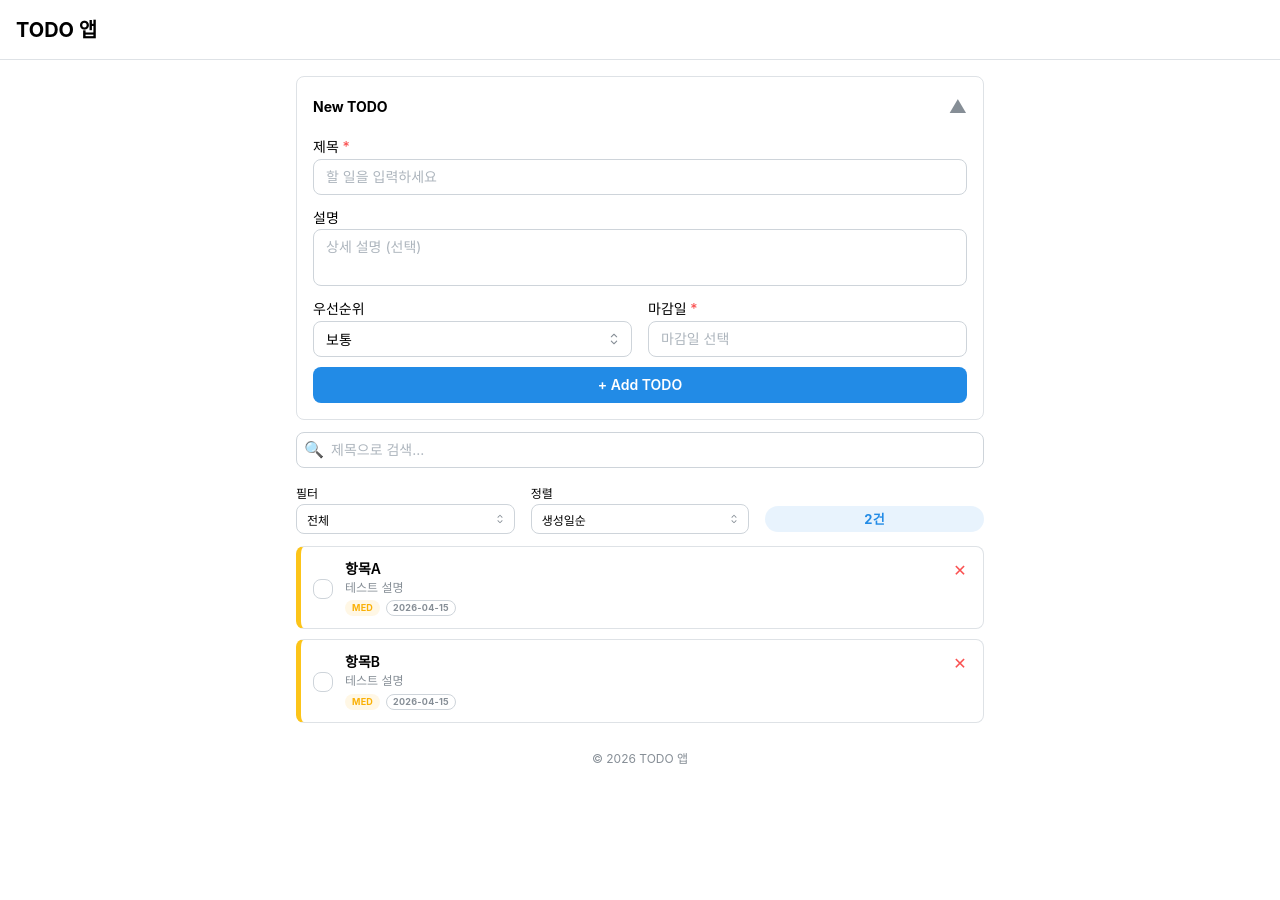
Test: App 통합 테스트 — 검색 › 검색어를 지우면 모든 항목이 다시 표시된다
The image size is (1280, 900).
Step 1. Type "항목A" into the field with placeholder "제목으로 검색..." → point(640, 450), box [296,432,984,468]
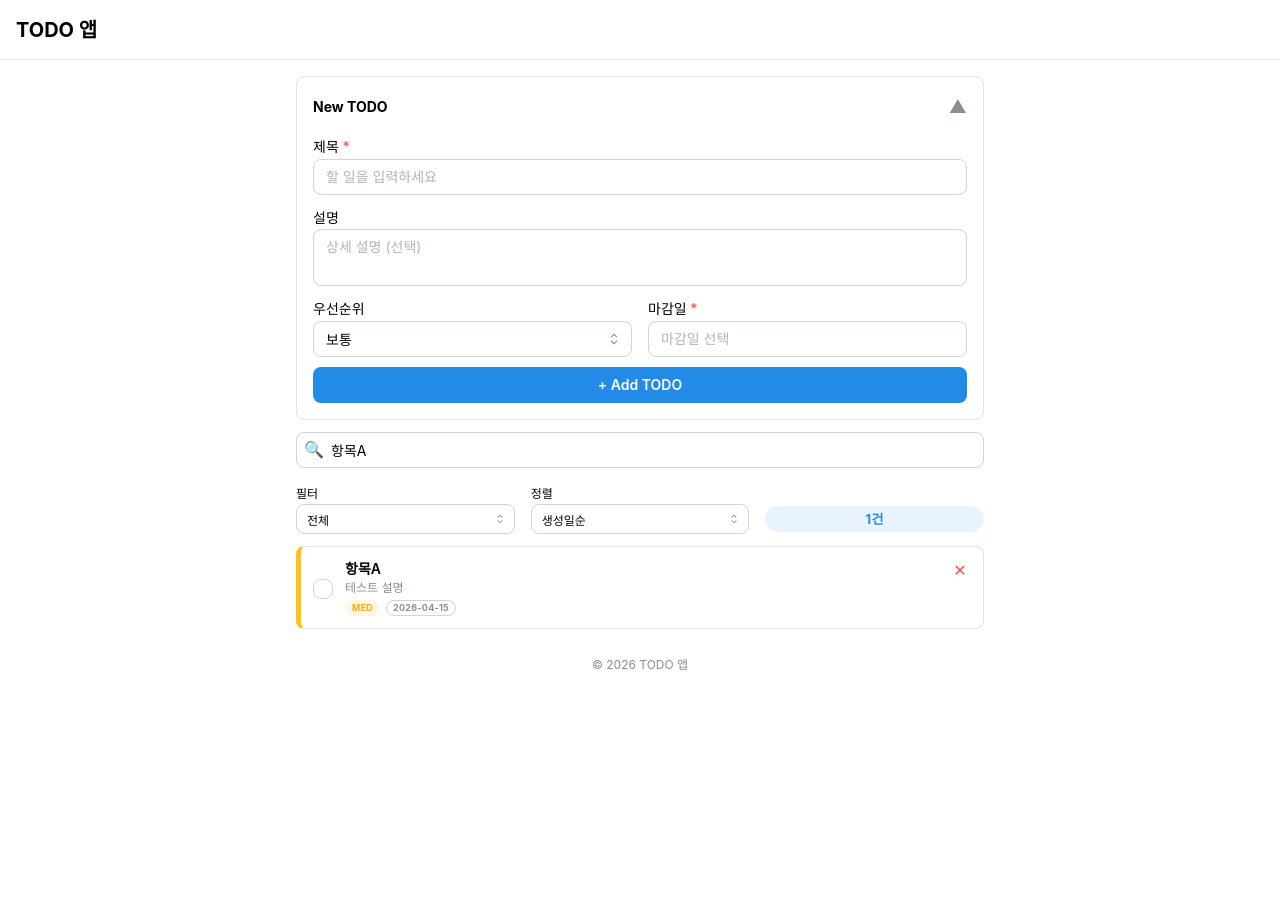
Now the text "항목B" is gone
Step 2. Clear the field with placeholder "제목으로 검색..." → point(640, 450), box [296,432,984,468]
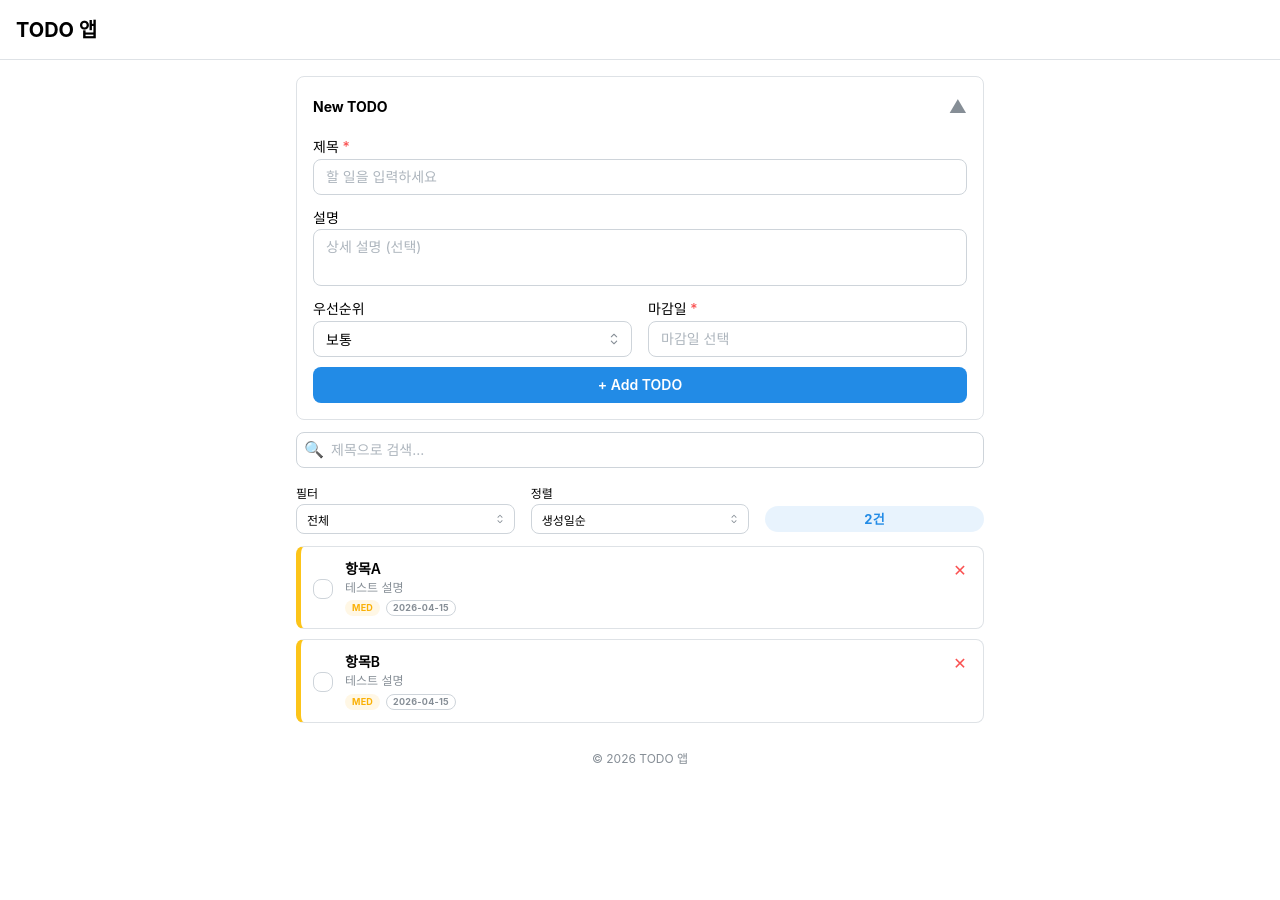
Expected: the text "항목A" is shown, [345,560,381,577]
Now the text "항목B" is shown, box [345,654,380,670]
